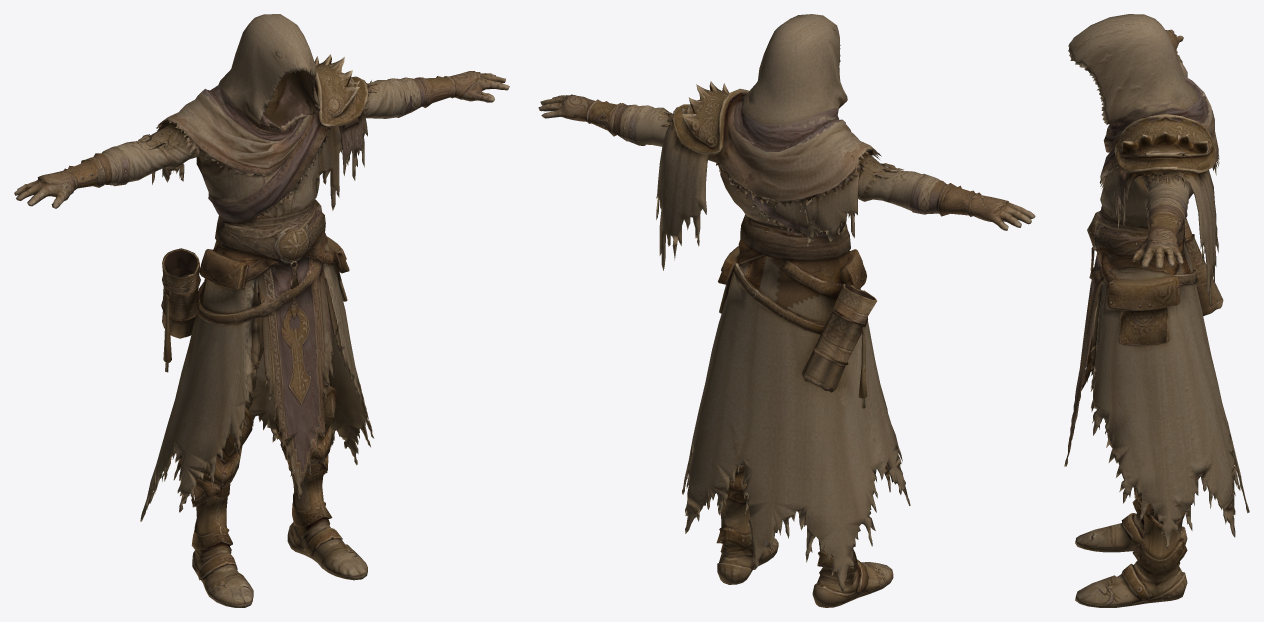
Rendered from S3N2_DesertArcher_Mixamo.fbx.
3 renders of one model, left to right at view 1: azimuth 30°, elevation 25°; view 2: azimuth 150°, elevation 25°; view 3: azimuth 270°, elevation 25°, orthographic.
Parts seen in each view (by area): view 1: DesertArcher_Body, DesertArcher_Quiver_Hollow; view 2: DesertArcher_Body, DesertArcher_Quiver_Hollow; view 3: DesertArcher_Body, DesertArcher_Quiver_Hollow.
Boxes of the visible parts, x1,y1,x2,y2 form: DesertArcher_Body: [14, 14, 509, 607]; DesertArcher_Quiver_Hollow: [161, 248, 200, 338]; DesertArcher_Body: [538, 14, 1035, 607]; DesertArcher_Quiver_Hollow: [802, 284, 876, 392]; DesertArcher_Body: [1064, 14, 1249, 607]; DesertArcher_Quiver_Hollow: [1184, 218, 1223, 315].
Size of the model in its own units: 1.76 by 1.9 by 0.5763.
3 materials, 1 textured.
